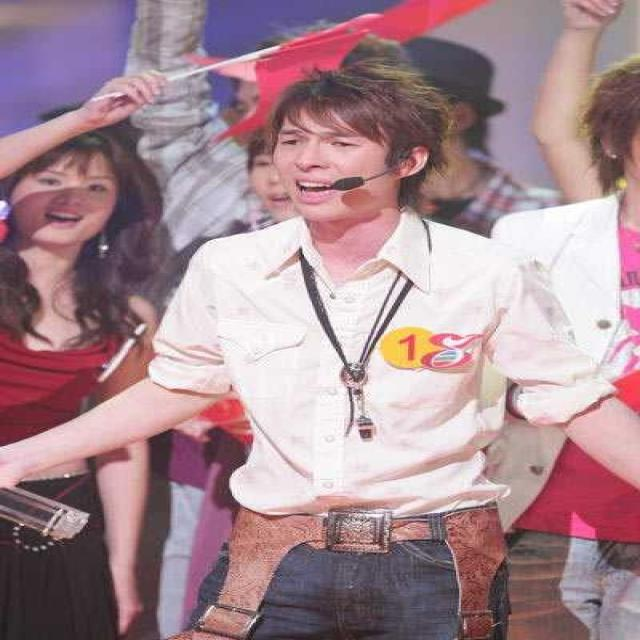microphone: (330, 158, 412, 192)
